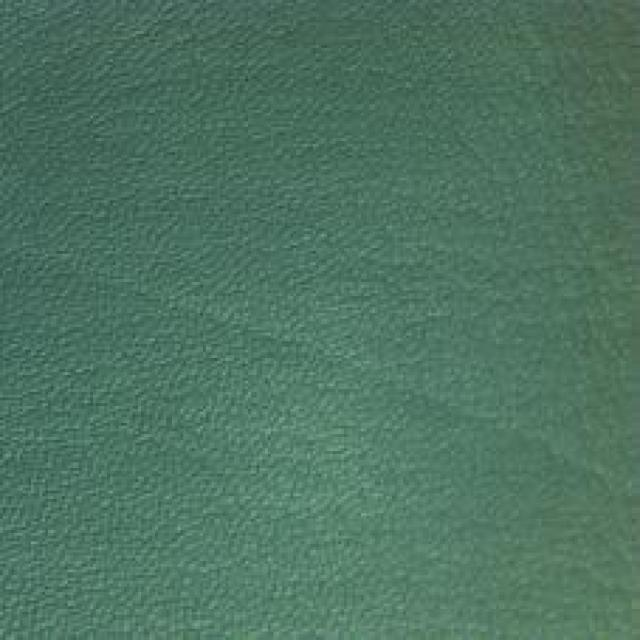Growth Marks: (348, 329, 568, 485), (71, 246, 302, 387)
